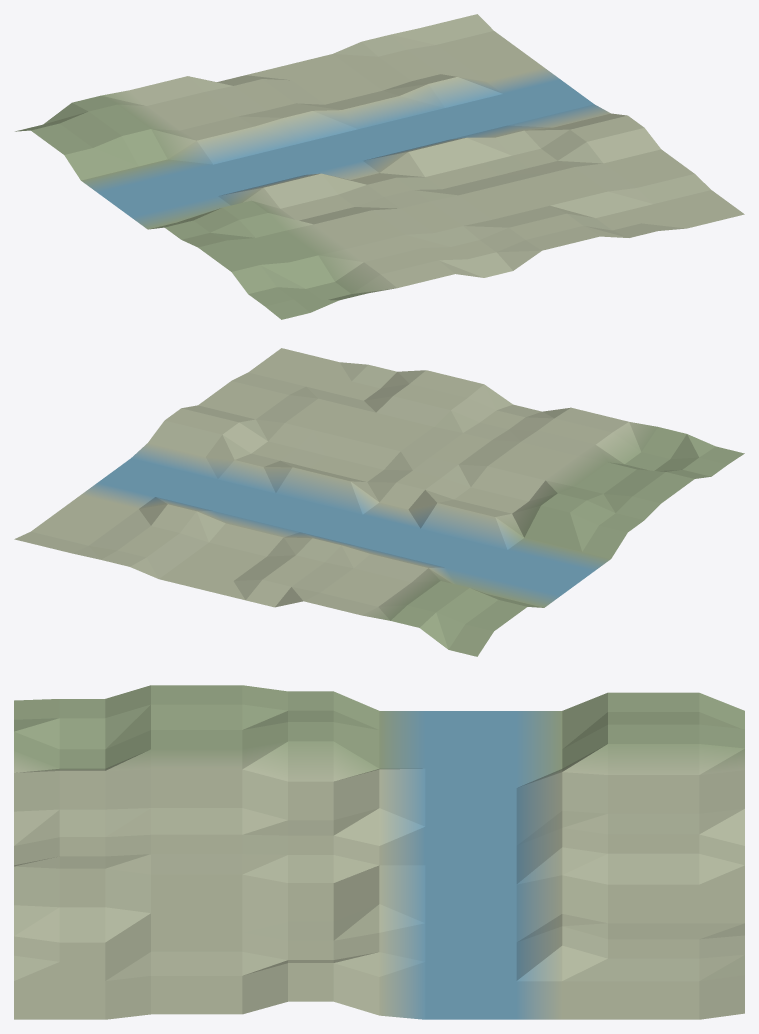
3 views of the same model, one above another, from view 1: azimuth 30°, elevation 25°; view 2: azimuth 150°, elevation 25°; view 3: azimuth 270°, elevation 25° (orthographic). The views are drawn at different scales.
Bounding box in the file's own units: 32 × 1.32 × 32.
